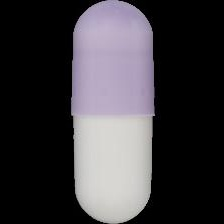68084-376: (0, 0, 224, 224)
